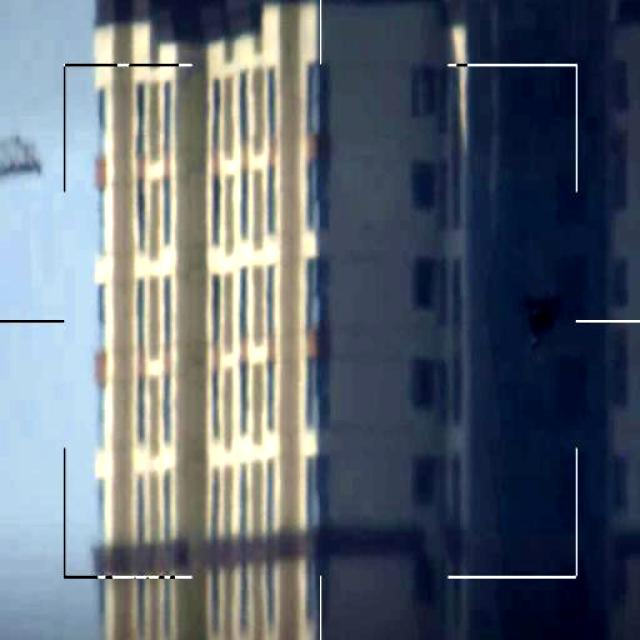bird: (519, 286, 568, 356)
